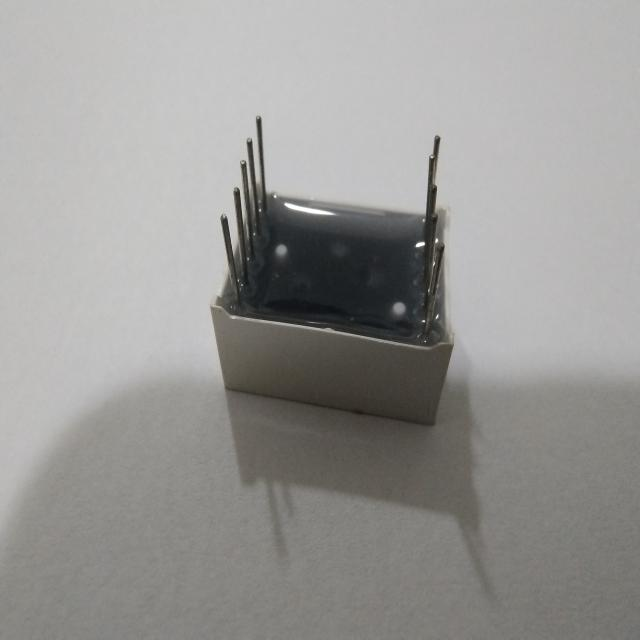7_segments: (203, 99, 464, 440)
